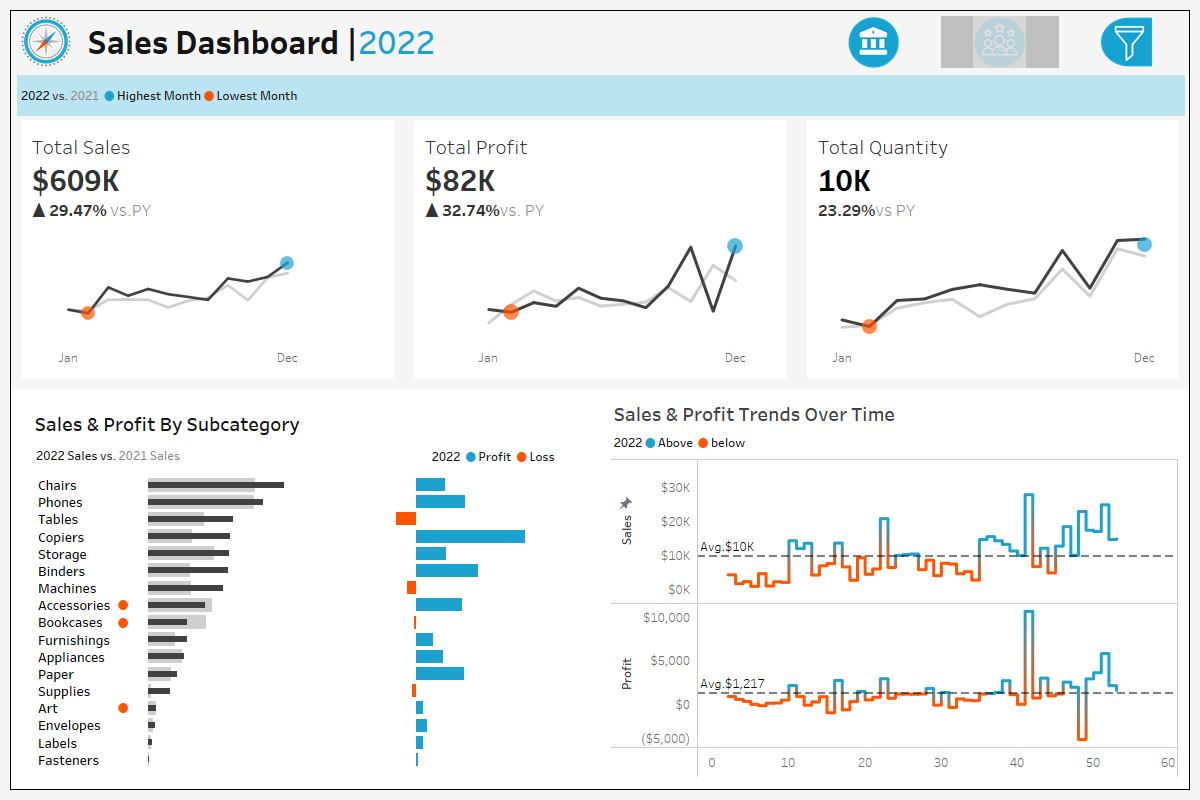

What the dashboard file says about the page in this screenshot:
{"tool":"tableau","page":{"name":"Sales Dashboard","canvas":[1200,740],"ordinal":0},"visuals":[{"type":"image","param":"Image/Icon - Logo.png","box":[11,11,70,60]},{"type":"text","box":[81,11,1108,60]},{"type":"dashboard-object","box":[810,11,127,56]},{"type":"dashboard-object","box":[937,11,126,56]},{"type":"dashboard-object","box":[1063,11,126,56]},{"type":"blank","box":[1003,20.2,176,87]},{"type":"worksheet","title":"Legend KPI","mark":"Automatic","box":[11,71,1178,28]},{"type":"worksheet","title":"Total Sales","mark":"Line","rows":["Calculation_1588644791074701314"],"cols":["Order Date"],"box":[11,99,393,240]},{"type":"worksheet","title":"Total profit","mark":"Automatic","rows":["Min/Max Sales (copy)_705939264907923459"],"cols":["Order Date"],"box":[404,99,393,240]},{"type":"worksheet","title":"Total Quantity","mark":"Automatic","rows":["Calculation_705939265212014602"],"cols":["Order Date"],"box":[797,99,392,240]},{"type":"text","box":[1003,107.2,176,45]},{"type":"parameter","param":"[Parameters].[Parameter 1]","box":[1003,152.2,176,52]},{"type":"blank","box":[1003,204.2,176,32]},{"type":"text","box":[1003,236.2,176,25]},{"type":"filter","title":"Total Sales","param":"[federated.0v9px0p1o3w8fs10s2vq708mf4ka].[none:Category:nk]","box":[1003,261.2,176,52]},{"type":"filter","title":"Total Sales","param":"[federated.0v9px0p1o3w8fs10s2vq708mf4ka].[none:Sub-Category:nk]","box":[1003,313.2,176,52]},{"type":"text","box":[607,346,575,34]},{"type":"text","box":[28,356,555,34]},{"type":"blank","box":[1003,365.2,176,32]},{"type":"text","box":[607,380,575,25]},{"type":"worksheet","title":"Legend Subcategory","mark":"Automatic","box":[28,390,397,32]},{"type":"text","box":[425,390,158,32]},{"type":"text","box":[1003,397.2,176,25]},{"type":"worksheet","title":"Weekly Trends","mark":"Automatic","rows":["Calculation_1420604229819129859","Calculation_705939264889651200"],"cols":["Order Date"],"box":[607,405,575,317]},{"type":"worksheet","title":"Subcategory Comparision","mark":"Bar","rows":["Sub-Category","Calculation_705939265269067789"],"cols":["CY Sales (copy)_1420604229819965444","Calculation_1420604229819129859","Calculation_705939264889651200"],"box":[28,422,555,290]},{"type":"filter","title":"Total Sales","param":"[federated.0v9px0p1o3w8fs10s2vq708mf4ka].[none:Region:nk]","box":[1003,422.2,176,52]},{"type":"filter","title":"Total Sales","param":"[federated.0v9px0p1o3w8fs10s2vq708mf4ka].[none:State:nk]","box":[1003,474.2,176,52]},{"type":"filter","title":"Total Sales","param":"[federated.0v9px0p1o3w8fs10s2vq708mf4ka].[none:City:nk]","box":[1003,526.2,176,118]}]}

Visuals, with their boxes on the page's 1200x740 design canvas (x1, y1, x2, y2). These are canvas units, not pixel positions in the 1200x800 screenshot, which may show the page scaled, cropped or inside an application window:
image: (x1=11, y1=11, x2=81, y2=71)
text: (x1=81, y1=11, x2=1189, y2=71)
dashboard-object: (x1=810, y1=11, x2=937, y2=67)
dashboard-object: (x1=937, y1=11, x2=1063, y2=67)
dashboard-object: (x1=1063, y1=11, x2=1189, y2=67)
blank: (x1=1003, y1=20, x2=1179, y2=107)
"Legend KPI" worksheet: (x1=11, y1=71, x2=1189, y2=99)
"Total Sales" worksheet (Line marks): (x1=11, y1=99, x2=404, y2=339)
"Total profit" worksheet: (x1=404, y1=99, x2=797, y2=339)
"Total Quantity" worksheet: (x1=797, y1=99, x2=1189, y2=339)
text: (x1=1003, y1=107, x2=1179, y2=152)
parameter: (x1=1003, y1=152, x2=1179, y2=204)
blank: (x1=1003, y1=204, x2=1179, y2=236)
text: (x1=1003, y1=236, x2=1179, y2=261)
"Total Sales" filter: (x1=1003, y1=261, x2=1179, y2=313)
"Total Sales" filter: (x1=1003, y1=313, x2=1179, y2=365)
text: (x1=607, y1=346, x2=1182, y2=380)
text: (x1=28, y1=356, x2=583, y2=390)
blank: (x1=1003, y1=365, x2=1179, y2=397)
text: (x1=607, y1=380, x2=1182, y2=405)
"Legend Subcategory" worksheet: (x1=28, y1=390, x2=425, y2=422)
text: (x1=425, y1=390, x2=583, y2=422)
text: (x1=1003, y1=397, x2=1179, y2=422)
"Weekly Trends" worksheet: (x1=607, y1=405, x2=1182, y2=722)
"Subcategory Comparision" worksheet (Bar marks): (x1=28, y1=422, x2=583, y2=712)
"Total Sales" filter: (x1=1003, y1=422, x2=1179, y2=474)
"Total Sales" filter: (x1=1003, y1=474, x2=1179, y2=526)
"Total Sales" filter: (x1=1003, y1=526, x2=1179, y2=644)
